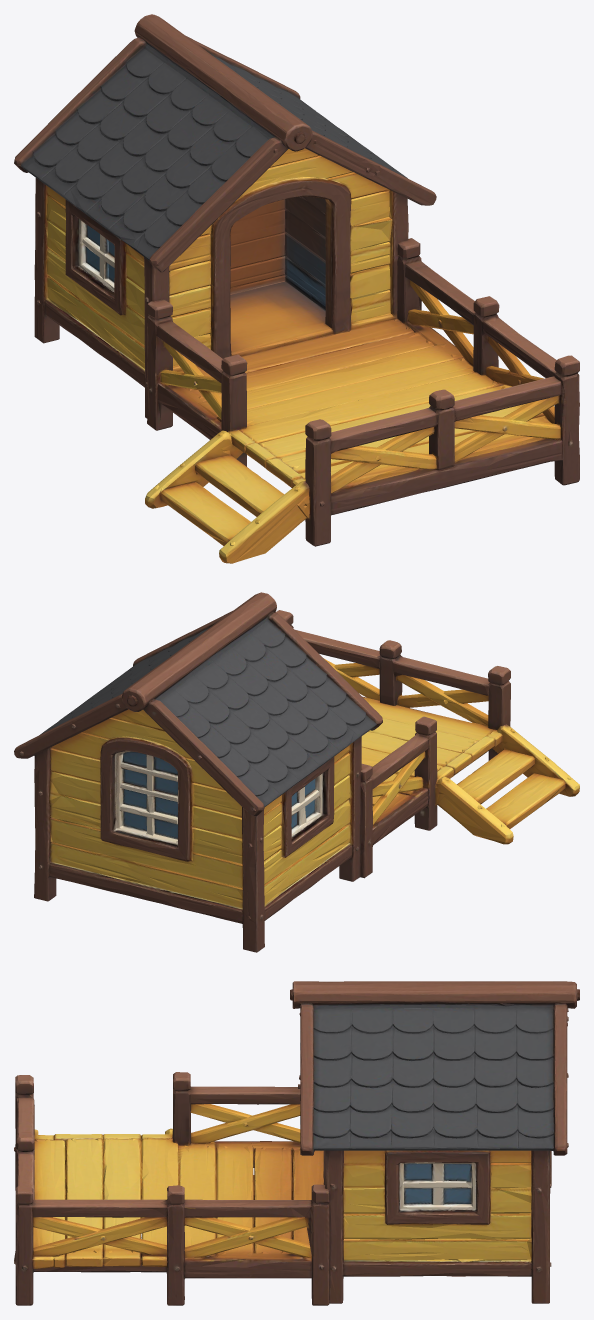
The model's file is DOM_budka_3__base.glb.
The picture shows the model from 3 angles, top to bottom: view 1: azimuth 30°, elevation 25°; view 2: azimuth 150°, elevation 25°; view 3: azimuth 270°, elevation 25°; orthographic projection. The views are drawn at different scales.
Parts seen in each view (by area): view 1: tripo_node_a21be262-5e50-4e7a-a395-8c0044246f3e; view 2: tripo_node_a21be262-5e50-4e7a-a395-8c0044246f3e; view 3: tripo_node_a21be262-5e50-4e7a-a395-8c0044246f3e.
Boxes of the visible parts, bbox=[...] form: tripo_node_a21be262-5e50-4e7a-a395-8c0044246f3e: bbox=[14, 14, 579, 563]; tripo_node_a21be262-5e50-4e7a-a395-8c0044246f3e: bbox=[14, 592, 579, 952]; tripo_node_a21be262-5e50-4e7a-a395-8c0044246f3e: bbox=[14, 981, 579, 1305].
Bounding box in the file's own units: 0.6716 × 0.5023 × 0.9774.
1 material, 1 textured.
